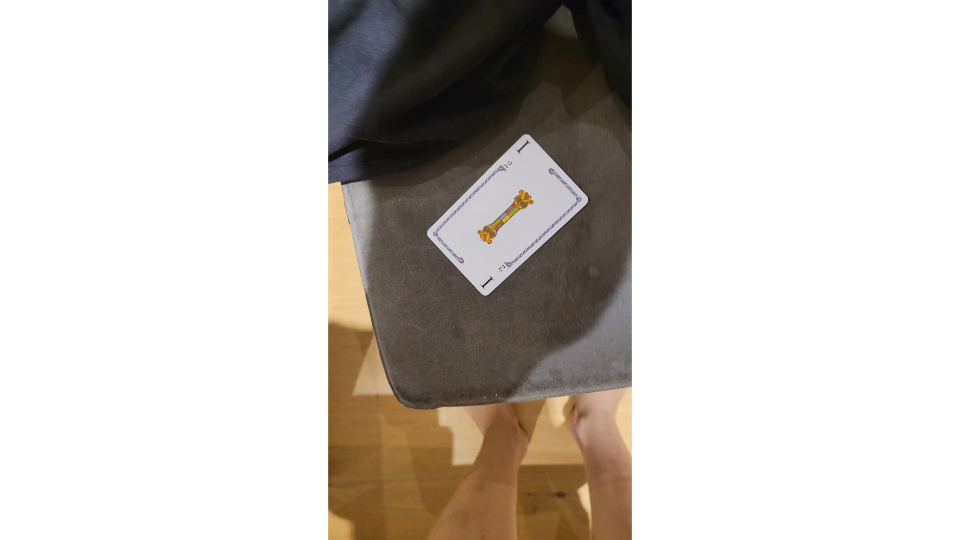I: (422, 132, 592, 300)
